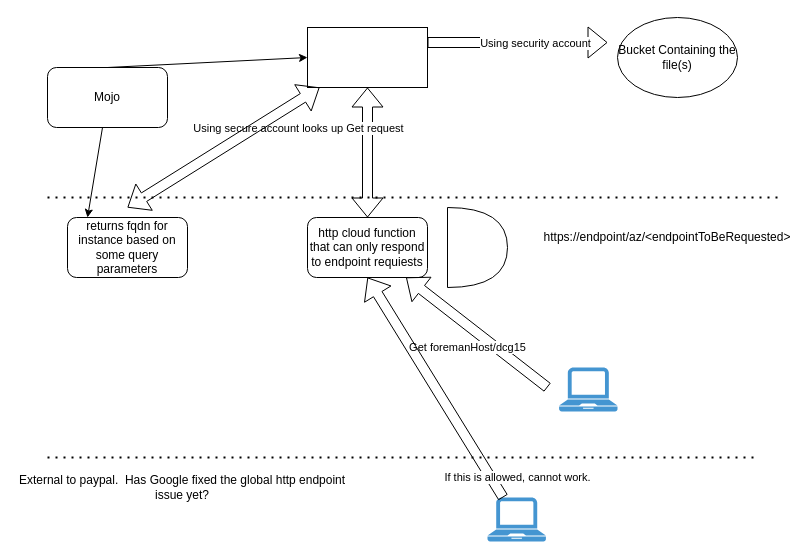
Some shapes in this 808 by 559 pixel diagram are drawn without their labels. The centre of each missing label's shape, as x and y in pixels:
"cloud function with sensitvie data needs security" belongs at (x=367, y=57).
"list of elements not secure as http ujrls" belongs at (x=477, y=247).
